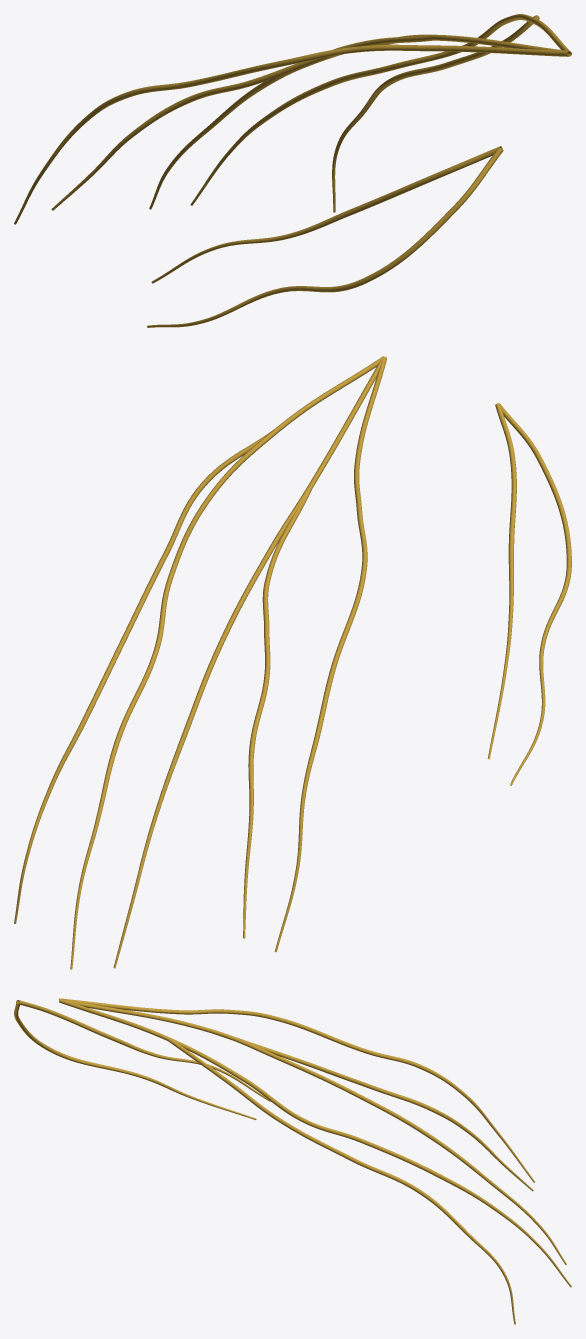
3 views of the same model, one above another, from view 1: azimuth 30°, elevation 25°; view 2: azimuth 150°, elevation 25°; view 3: azimuth 270°, elevation 25° (orthographic). The views are drawn at different scales.
Visible parts, largest first — view 1: 右侧桡神经指背神经; view 2: 右侧桡神经指背神经; view 3: 右侧桡神经指背神经.
Boxes of the visible parts, x1,y1,x2,y2 form: 右侧桡神经指背神经: (14,14,571,327); 右侧桡神经指背神经: (14,356,571,969); 右侧桡神经指背神经: (14,998,571,1324).
Size of the model in its own units: 0.1063 by 0.114 by 0.1954.
